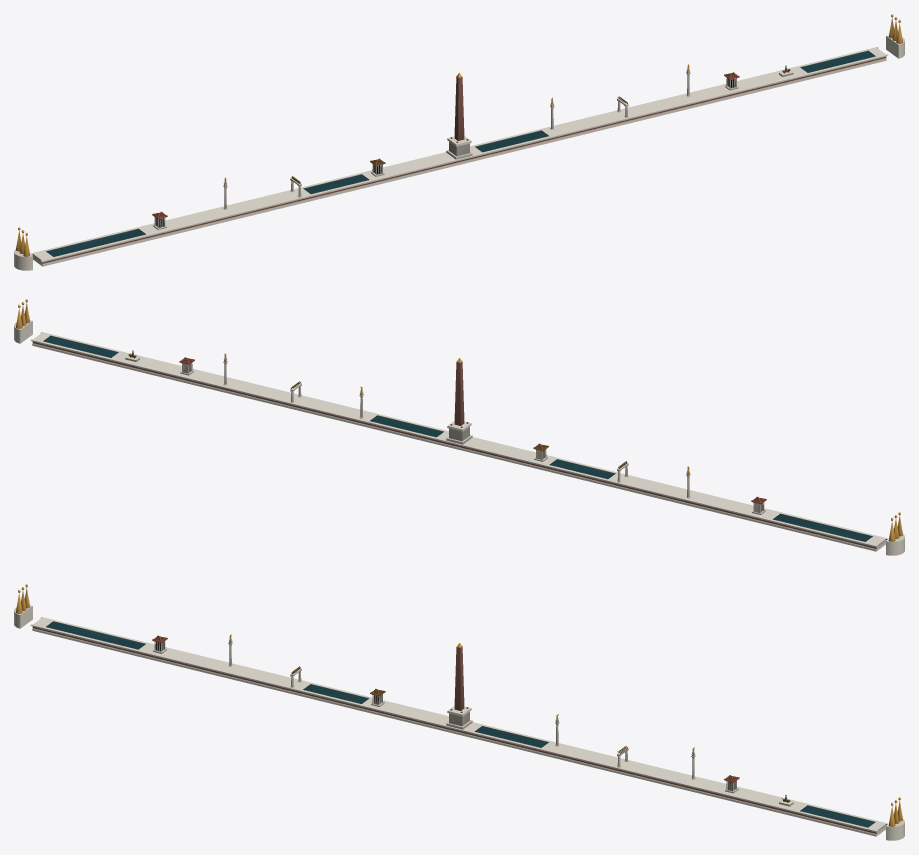
The model's file is rome_circus_spina.glb.
3 views of the same model, one above another, from view 1: azimuth 30°, elevation 25°; view 2: azimuth 150°, elevation 25°; view 3: azimuth 330°, elevation 25° (orthographic).
Parts seen in each view (by area): view 1: rome_circus_spina; view 2: rome_circus_spina; view 3: rome_circus_spina.
Part boxes in pixels (x1=…): rome_circus_spina: x1=14, y1=14, x2=904, y2=270; rome_circus_spina: x1=14, y1=299, x2=904, y2=555; rome_circus_spina: x1=14, y1=584, x2=904, y2=840.
Bounding box in the file's own units: 326 × 30.63 × 8.
